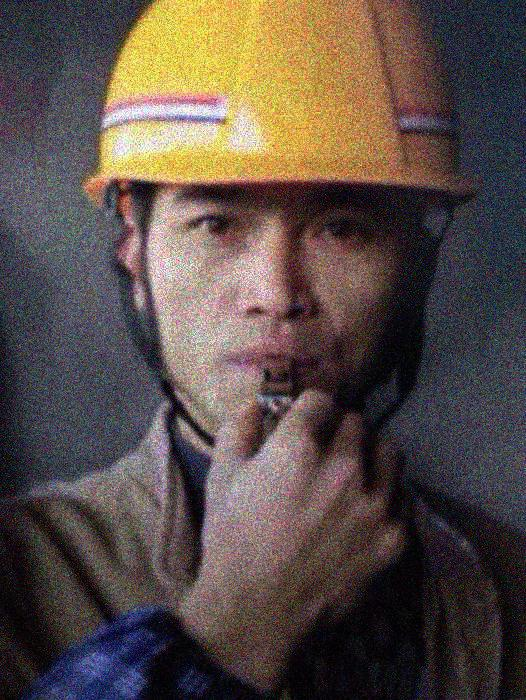helmet: (80, 1, 480, 438)
